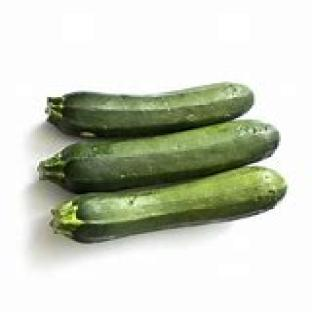Zucchini: (51, 167, 286, 242), (39, 120, 278, 192), (47, 84, 253, 136)
